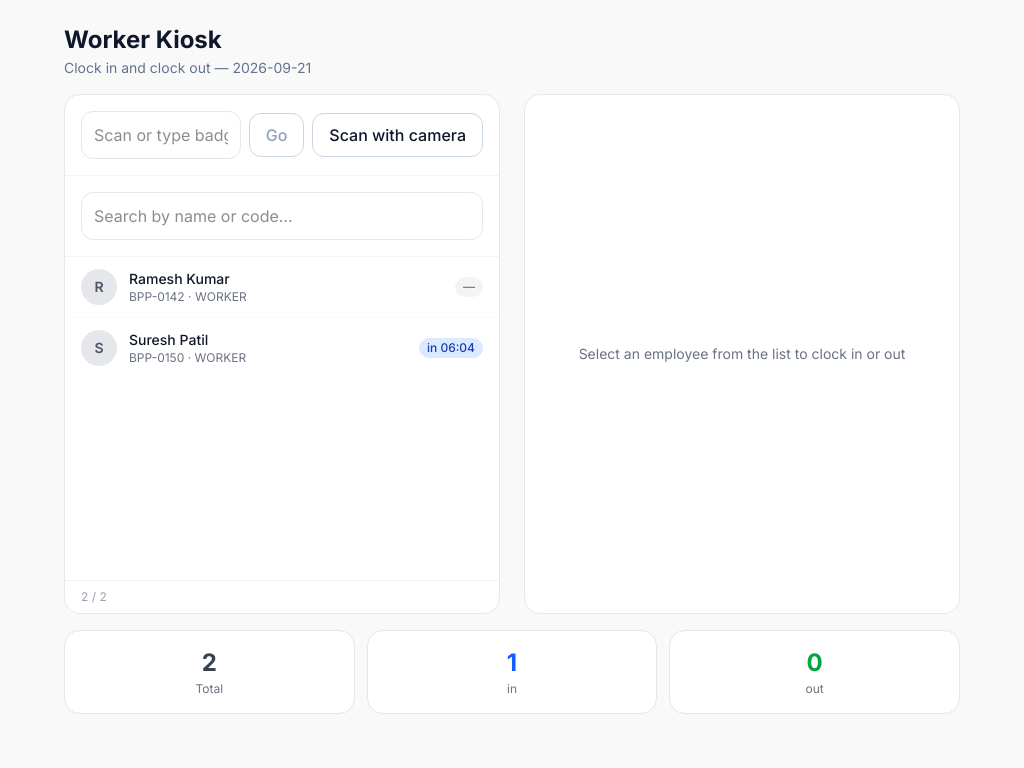
punching › after a punch the person shows as in, and the SAME direction is not offered again (K7)
This screenshot has width=1024, height=768.
Click the button "R Ramesh Kumar BPP-0142 · WORKER —" at (99, 287), box [65, 257, 499, 318]
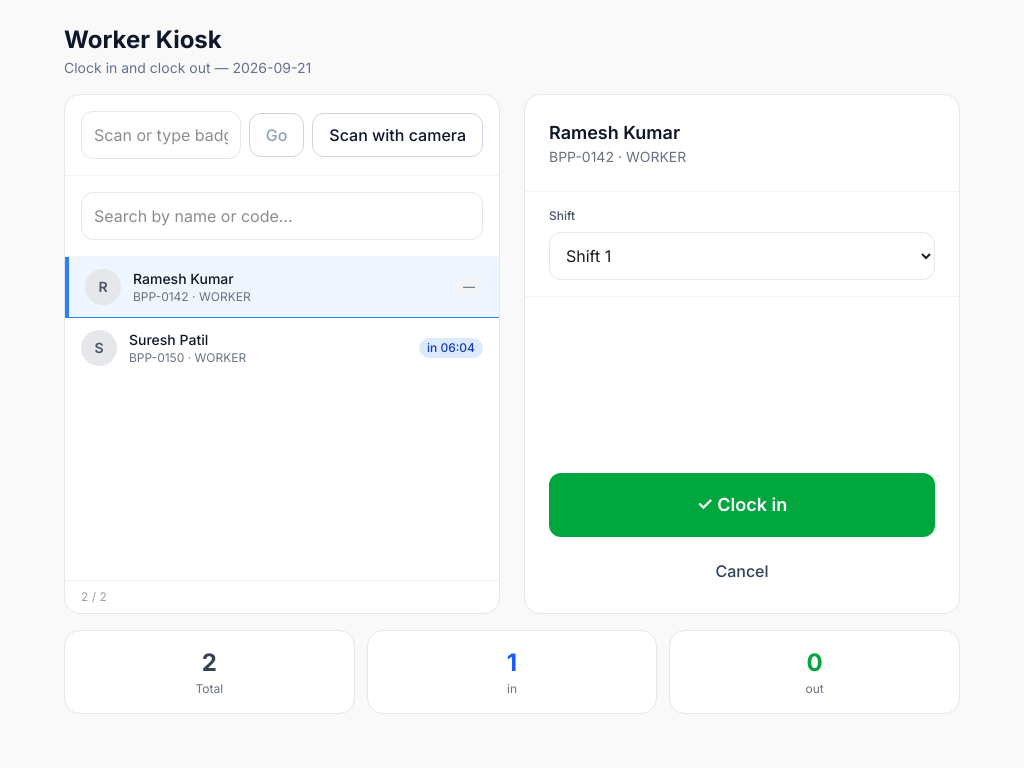
Click the button "✓ Clock in" at (742, 505), box [549, 473, 935, 537]
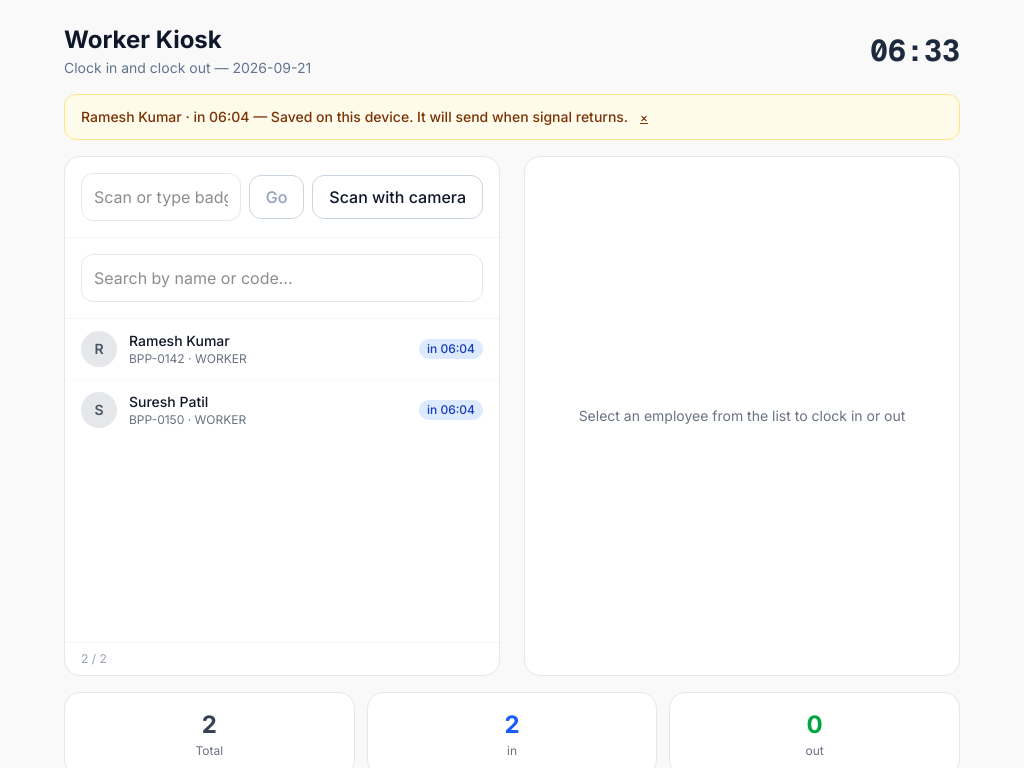
Expected: the 1st text "in 06:04" is shown, [419, 339, 483, 359]
Click the button "Ramesh Kumar" at (99, 349), box [65, 319, 499, 380]
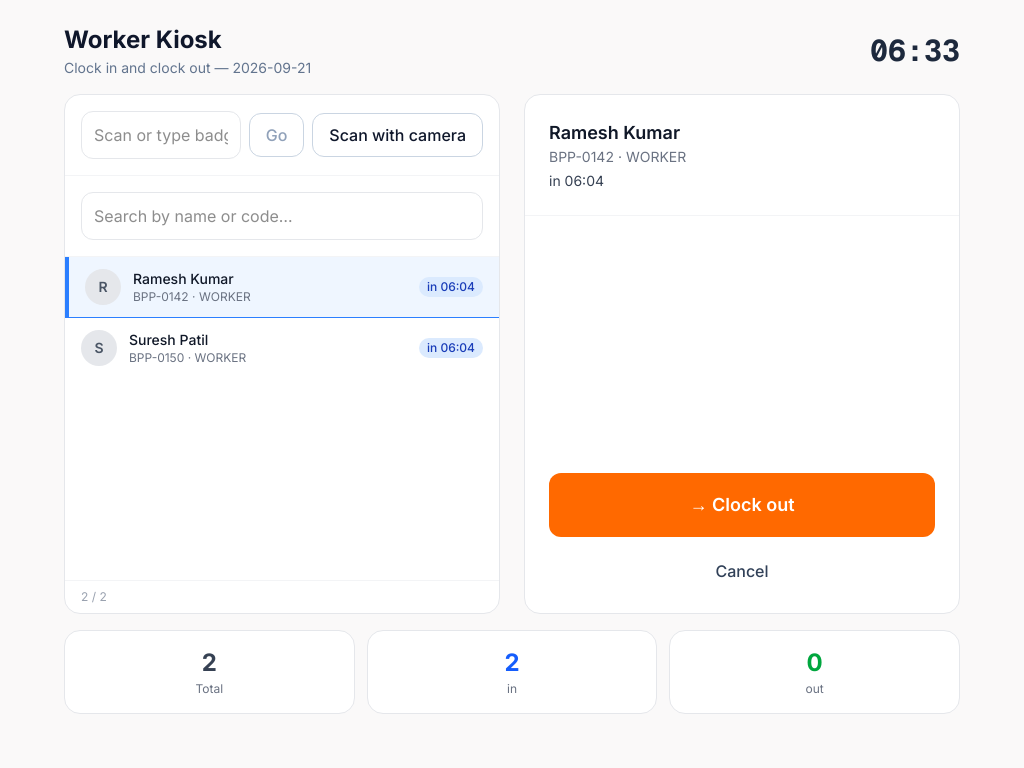
Expected: the button "→ Clock out" is shown, [549, 473, 935, 537]
